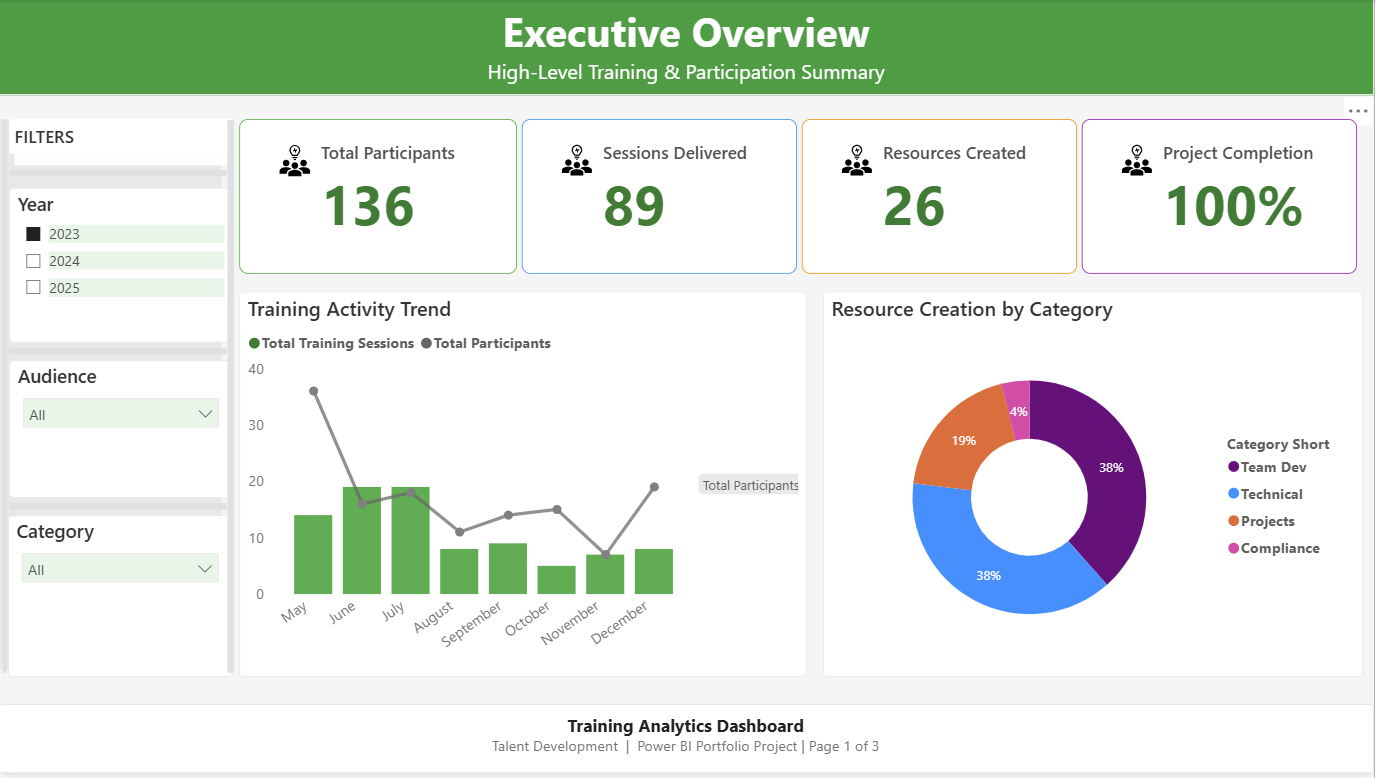

The page's visual inventory and layout, read from the dashboard file:
{"tool":"powerbi","page":{"name":"01_Executive_Overview","canvas":[1280,720],"ordinal":0},"visuals":[{"type":"shape","title":"Filter Panel - Background","box":[0,112,208,512],"z":0},{"type":"textbox","box":[0,0,1280.2,89.5],"z":1000},{"type":"cardVisual","fields":{"Data":["Facts_Training_Session.Total Training Sessions"]},"box":[486.7,112,256,144],"z":2000},{"type":"cardVisual","fields":{"Data":["Facts_Training_Session.Total Participants"]},"box":[224,112,258,144],"z":3000},{"type":"cardVisual","fields":{"Data":["Facts_Development_Projects.Total Resources"]},"box":[747.3,112,256,144],"z":4000},{"type":"cardVisual","fields":{"Data":["Facts_Development_Projects.Project Completion Rate"]},"box":[1008,112,256,144],"z":5000},{"type":"lineClusteredColumnComboChart","title":"Training Activity Trend","fields":{"Category":["Dim_Date.MonthName"],"Y":["Facts_Training_Session.Total Training Sessions"],"Y2":["Facts_Training_Session.Total Participants"]},"box":[224,272,528,358],"z":6000},{"type":"donutChart","title":"Resource Creation by Category","fields":{"Y":["Facts_Development_Projects.Total Resources"],"Category":["Dim_Category.Category Short"]},"box":[768,272,502,358],"z":7000},{"type":"slicer","title":"Category","fields":{"Values":["Dim_Category.Category"]},"box":[9.7,480,208.7,150.3],"z":8000},{"type":"shape","title":"Divider - Category/Audience","box":[10,464,202,16],"z":9000},{"type":"slicer","title":"Audience","fields":{"Values":["Dim_Audience.Audience"]},"box":[10,336,208,128],"z":10000},{"type":"shape","title":"Divider - Category/Audience","box":[10,320,202,16],"z":11000},{"type":"slicer","title":"Year","fields":{"Values":["Dim_Date.Year"]},"box":[10,176,208,144],"z":12000},{"type":"shape","title":"Divider - Category/Audience","box":[10,153,202,16.7],"z":13000},{"type":"shape","title":"FILTERS","box":[10,112,208,48],"z":14000},{"type":"textbox","box":[0,656,1280,64],"z":15000},{"type":"shape","box":[210.1,112.7,12,514],"z":17000},{"type":"shape","box":[0,112.7,12.5,514],"z":17500}]}

Visuals, with their boxes in screenshot pixels (x1, y1, x2, y2), scaled from the page's 1280x720 canvas onto the 1376x778 screenshot:
"Filter Panel - Background" shape: 0 121 224 674
textbox: 0 0 1375 97
cardVisual - Facts_Training_Session.Total Training Sessions: 523 121 798 277
cardVisual - Facts_Training_Session.Total Participants: 241 121 518 277
cardVisual - Facts_Development_Projects.Total Resources: 803 121 1079 277
cardVisual - Facts_Development_Projects.Project Completion Rate: 1084 121 1359 277
"Training Activity Trend" lineClusteredColumnComboChart: 241 294 808 681
"Resource Creation by Category" donutChart: 826 294 1365 681
"Category" slicer: 10 519 235 681
"Divider - Category/Audience" shape: 11 501 228 519
"Audience" slicer: 11 363 234 501
"Divider - Category/Audience" shape: 11 346 228 363
"Year" slicer: 11 190 234 346
"Divider - Category/Audience" shape: 11 165 228 183
"FILTERS" shape: 11 121 234 173
textbox: 0 709 1375 777
shape: 226 122 239 677
shape: 0 122 13 677
